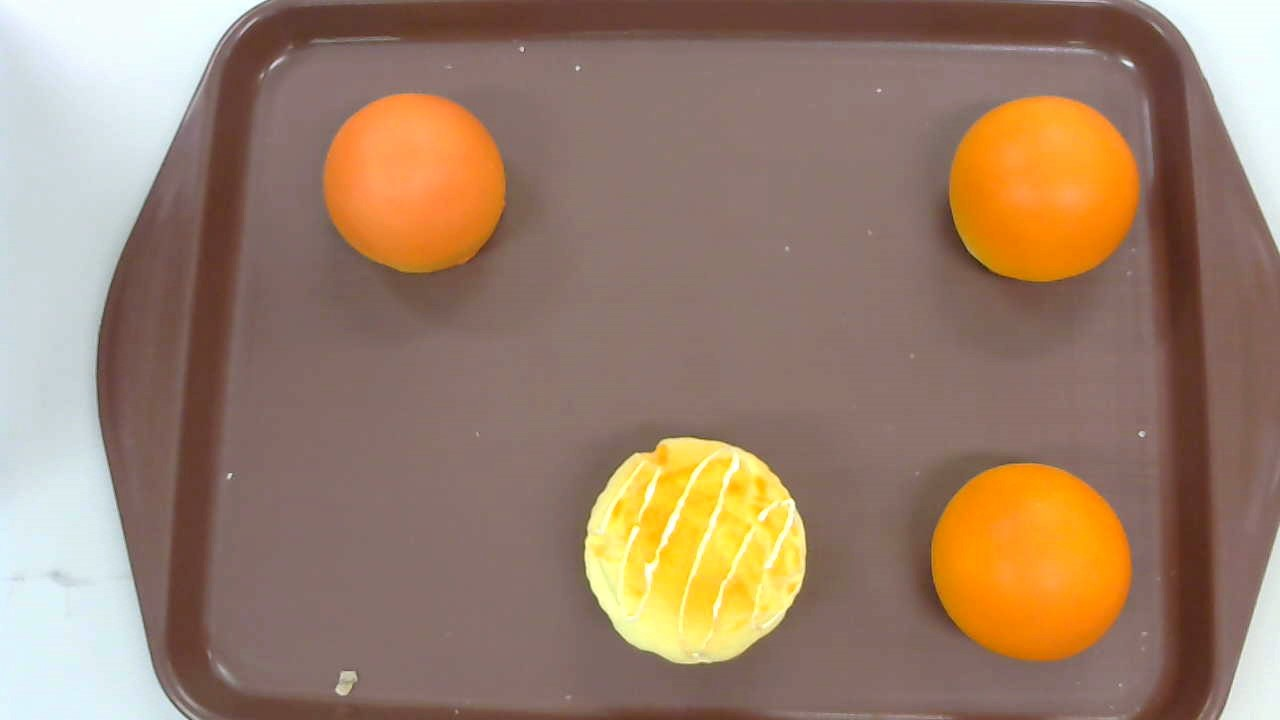bun: (931, 461, 1134, 663), (949, 91, 1141, 284), (322, 91, 505, 273)
cupcake: (583, 435, 806, 665)
